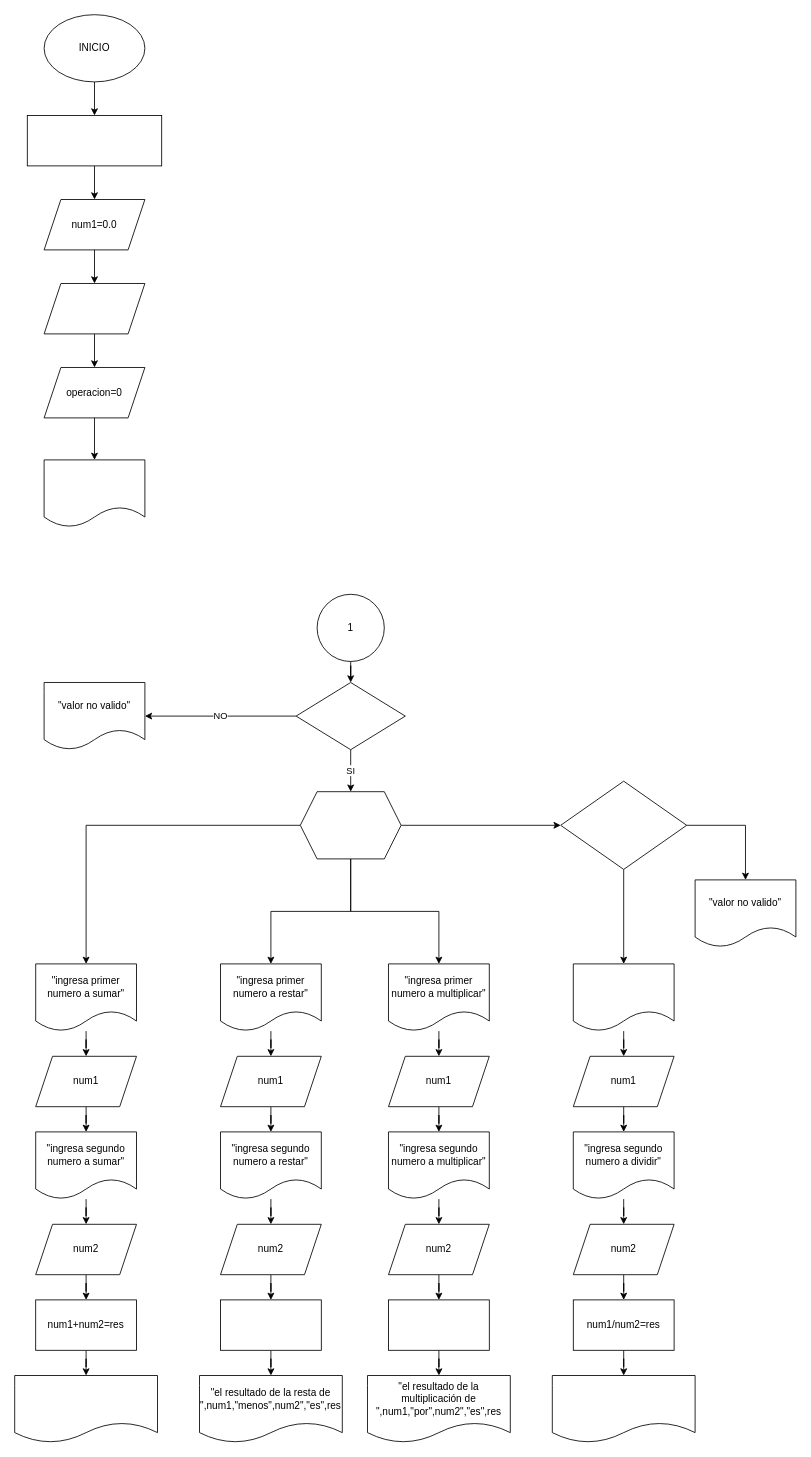
This 811x1457 diagram has some shape labels left out. Each missing label, with the centre of its shape:
"el resultado de la division de ",num1,"entre",num2","es",res: the point at 623,1409
"el resultado de la suma de ",num1,"mas",num2","es",res: the point at 86,1409
"elige una operacion a realizar": the point at 94,493
"ingresa primer numero a dividir": the point at 623,997
num1(Int),num2(int),res(float), operacion(int): the point at 94,140
num1*num2=res: the point at 438,1324
num1-num2=res: the point at 270,1324
num2=0: the point at 623,824
num2=0.0: the point at 94,308
operacion: the point at 350,825
operacion<>5: the point at 350,716
